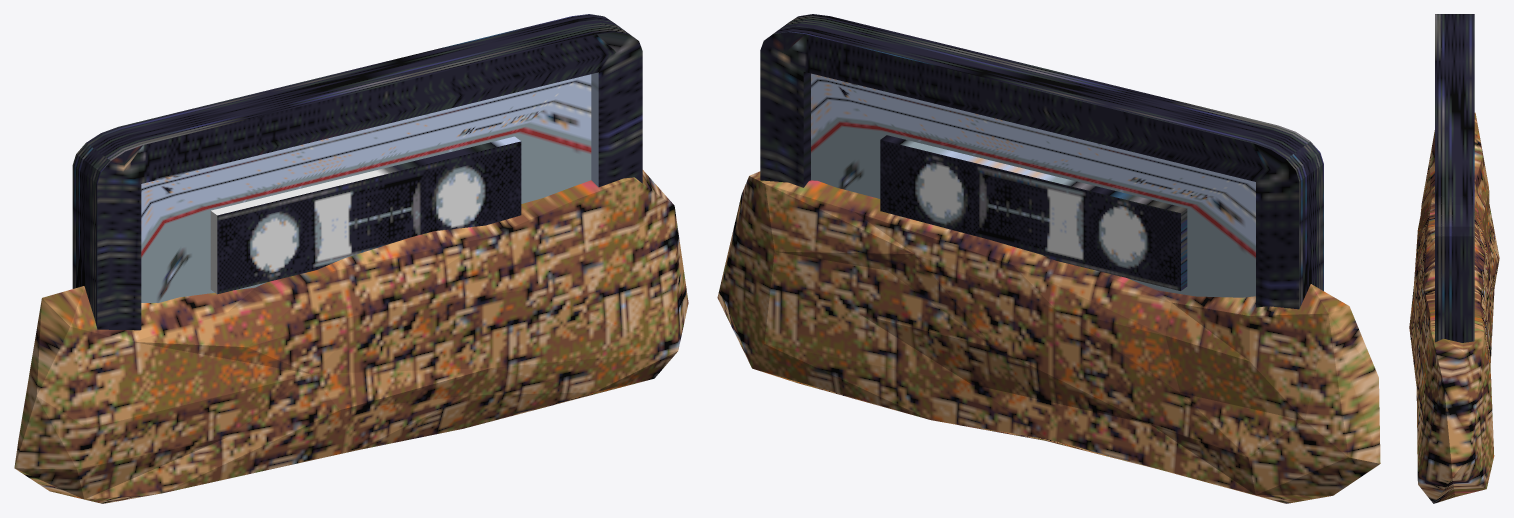
Rendered from CASETTE.fbx.
The picture shows the model from 3 angles, left to right: view 1: azimuth 30°, elevation 25°; view 2: azimuth 150°, elevation 25°; view 3: azimuth 270°, elevation 25°; orthographic projection. The views are drawn at different scales.
Parts seen in each view (by area): view 1: Icosphere, Cube; view 2: Icosphere, Cube; view 3: Icosphere, Cube.
Boxes of the visible parts, x1,y1,x2,y2 form: Icosphere: (14, 170, 688, 503); Cube: (72, 14, 642, 330); Icosphere: (717, 171, 1380, 503); Cube: (760, 14, 1323, 309); Icosphere: (1409, 112, 1499, 503); Cube: (1435, 14, 1474, 342).
Size of the model in its own units: 636 by 332 by 92.85.
